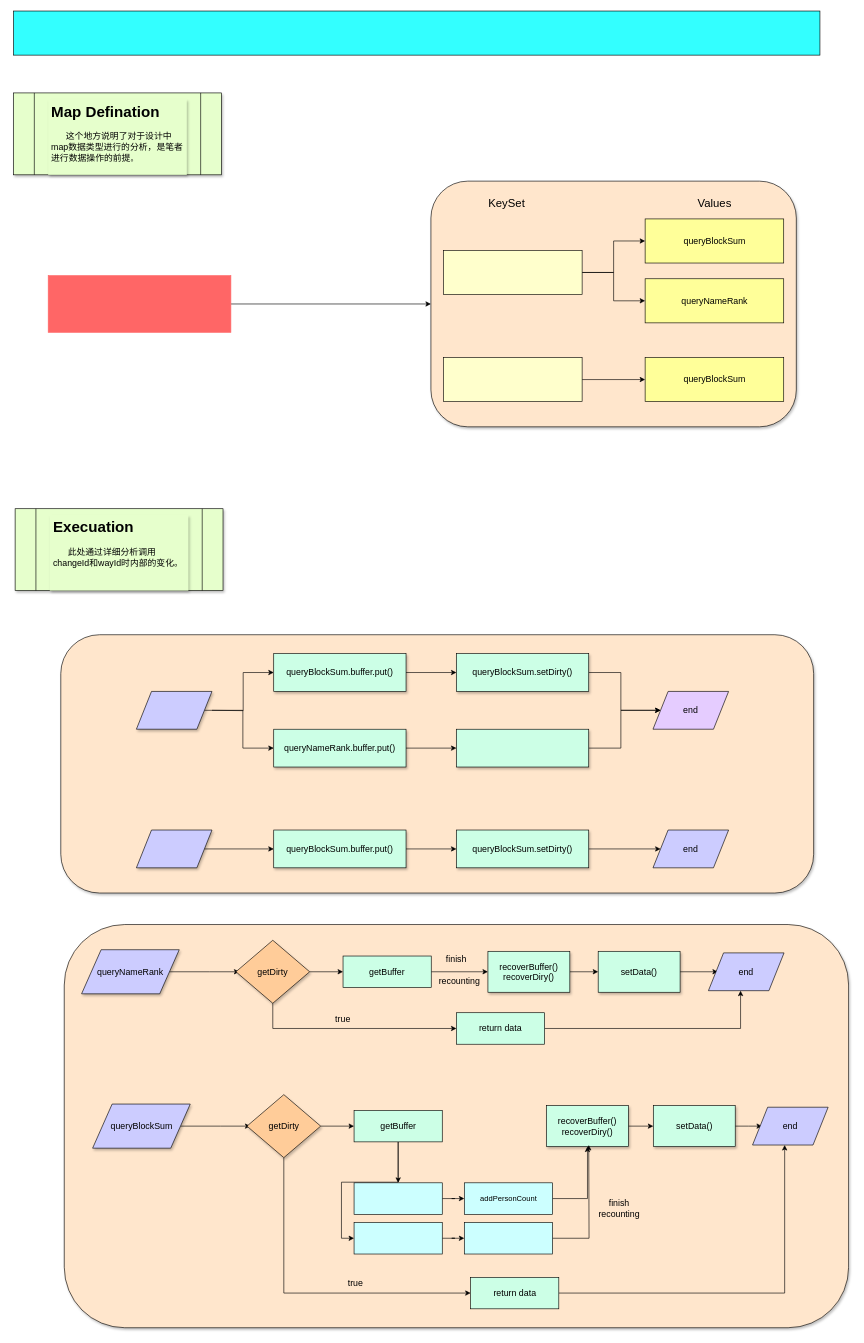
Some shapes in this 864 by 1343 pixel diagram are drawn without their labels. The centre of each missing label's shape, as x and y in pixels:
addPerson: (174,711)
addRelation: (174,849)
addRelationCount: (508,1238)
changeId1: addPerson: (512,272)
changeId2: addRelation: (512,379)
instanceOf ArrayList: (397,1238)
instanceOf Person: (397,1198)
Map<Integer, ArrayList<Integer>> map: (139,303)
Prestatus: (416,32)
queryNameRank.setDirty(): (523,748)
